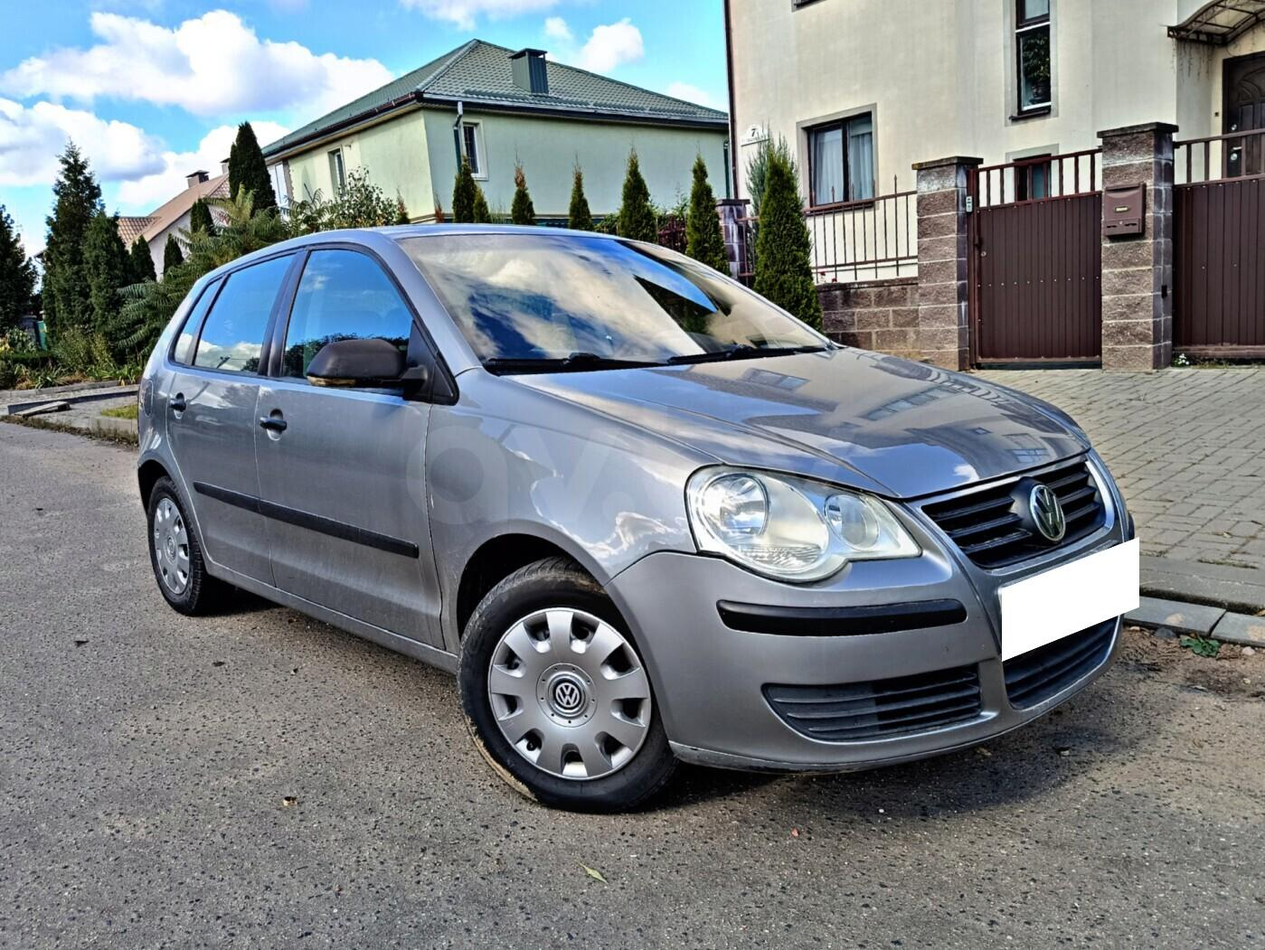Polo_2005-2009: (128, 203, 1141, 843)
